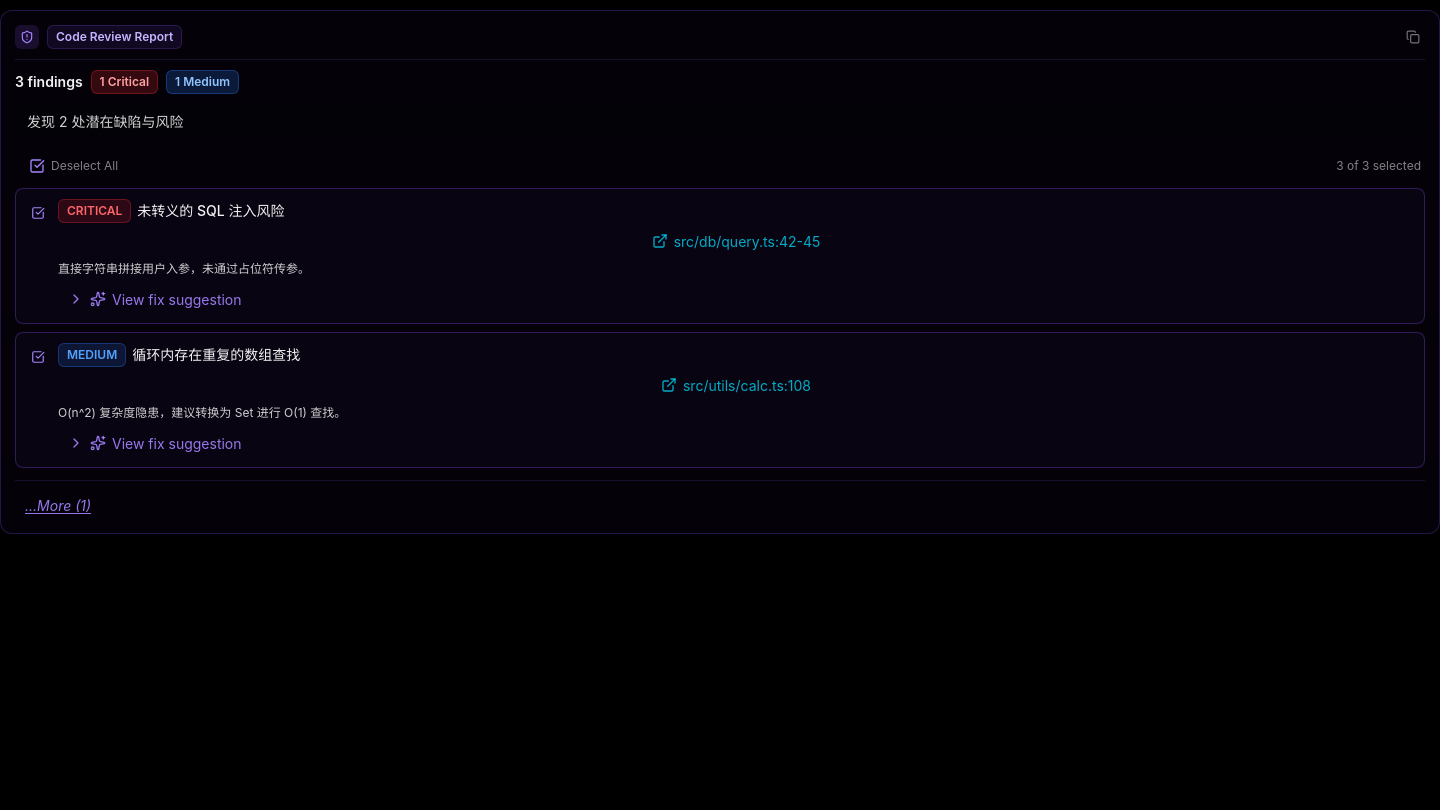
Test case: ReviewFindingsCard › 点击省略号展开剩余卡片内容
Click the button with class "review-findings-expand-toggle": coordinates (58, 505) [15,491,101,519]
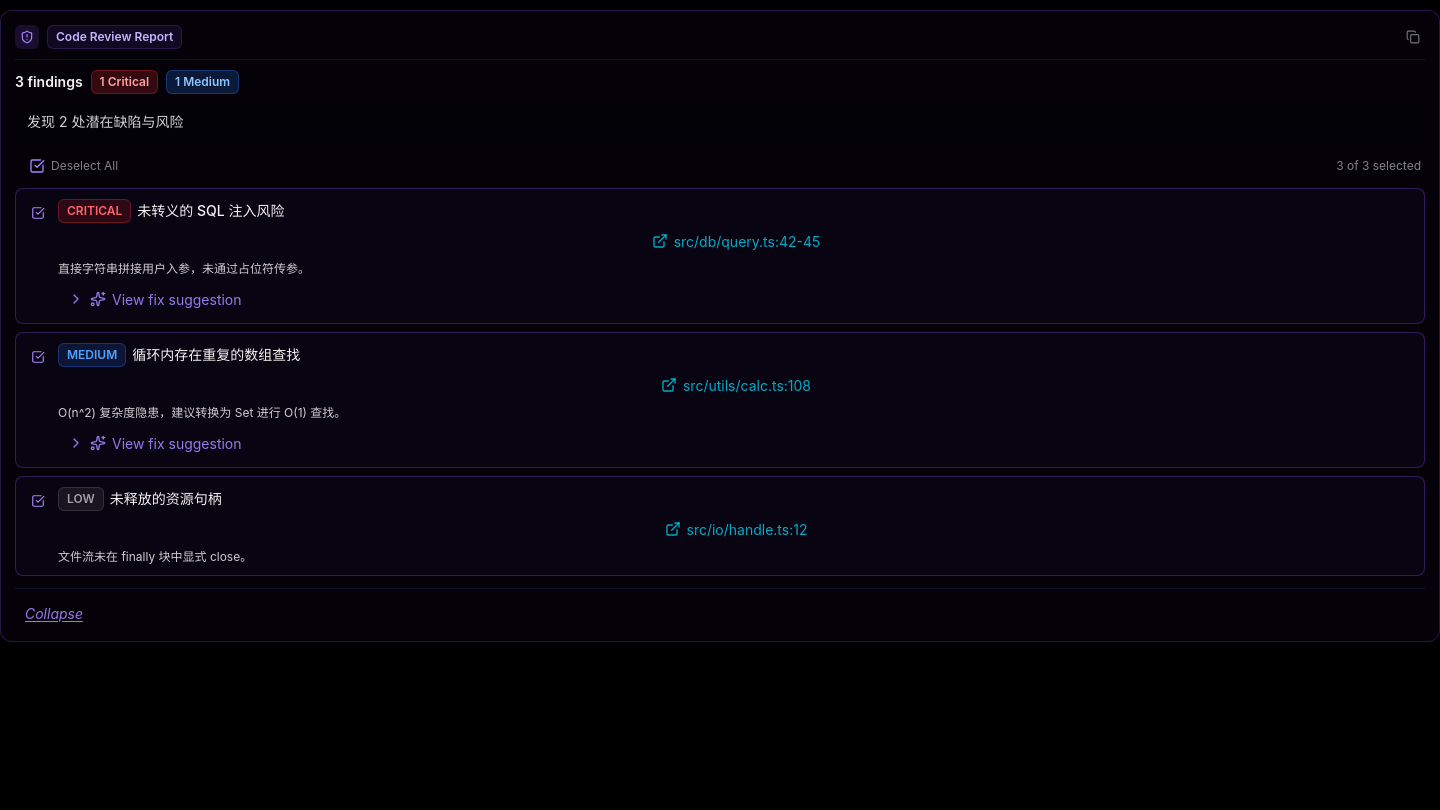
Now the text "未释放的资源句柄" is shown, box [110,489,222,509]
